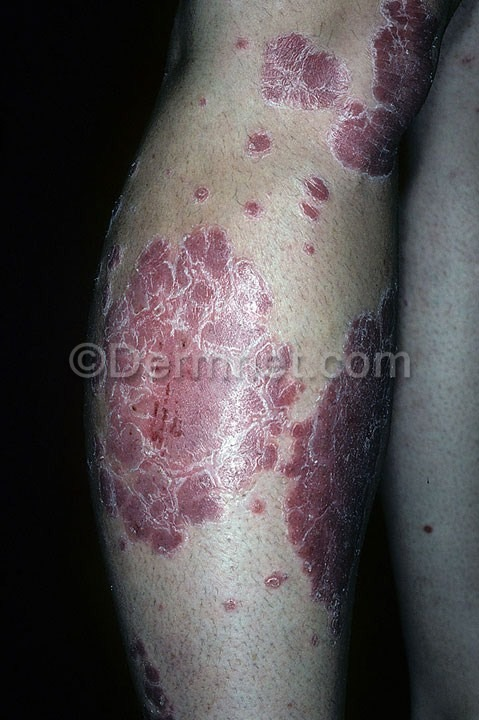Psoriasis: (100, 220, 290, 556), (294, 316, 378, 587), (346, 1, 419, 191), (239, 24, 355, 122), (113, 623, 193, 714)
